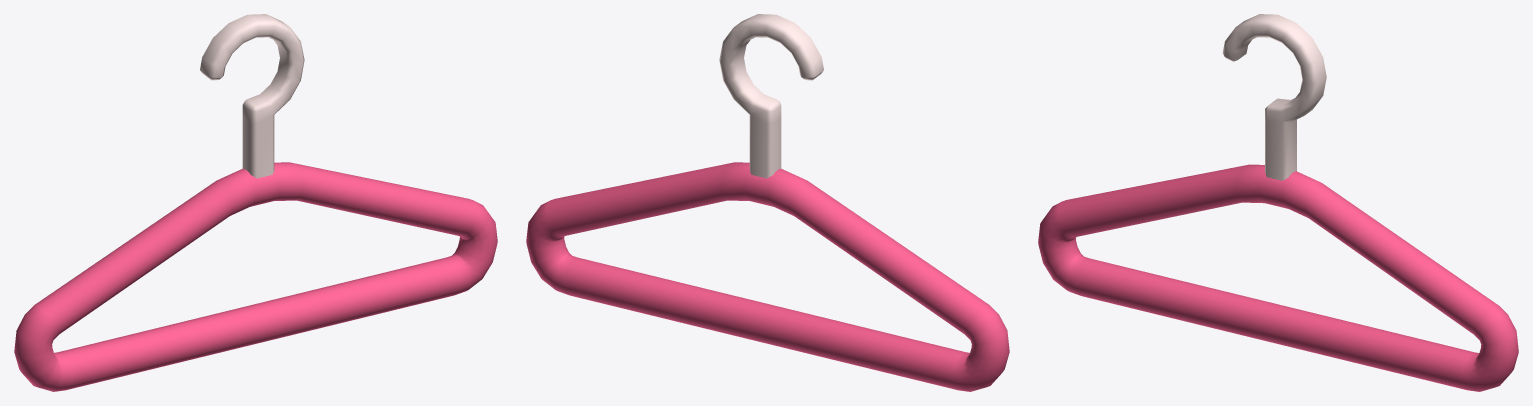
File: Public_19_Clothes_hanger_3.glb
3 renders of one model, left to right at view 1: azimuth 30°, elevation 25°; view 2: azimuth 150°, elevation 25°; view 3: azimuth 330°, elevation 25°, orthographic.
Visible parts, largest first — view 1: Public_19_Clothes_hanger_3; view 2: Public_19_Clothes_hanger_3; view 3: Public_19_Clothes_hanger_3.
Boxes of the visible parts, <box> form: Public_19_Clothes_hanger_3: <box>14,14,497,391</box>; Public_19_Clothes_hanger_3: <box>526,14,1009,391</box>; Public_19_Clothes_hanger_3: <box>1038,14,1518,391</box>.
Size of the model in its own units: 0.6304 by 0.409 by 0.0446.
Materials: 1 (1 with a texture image).
